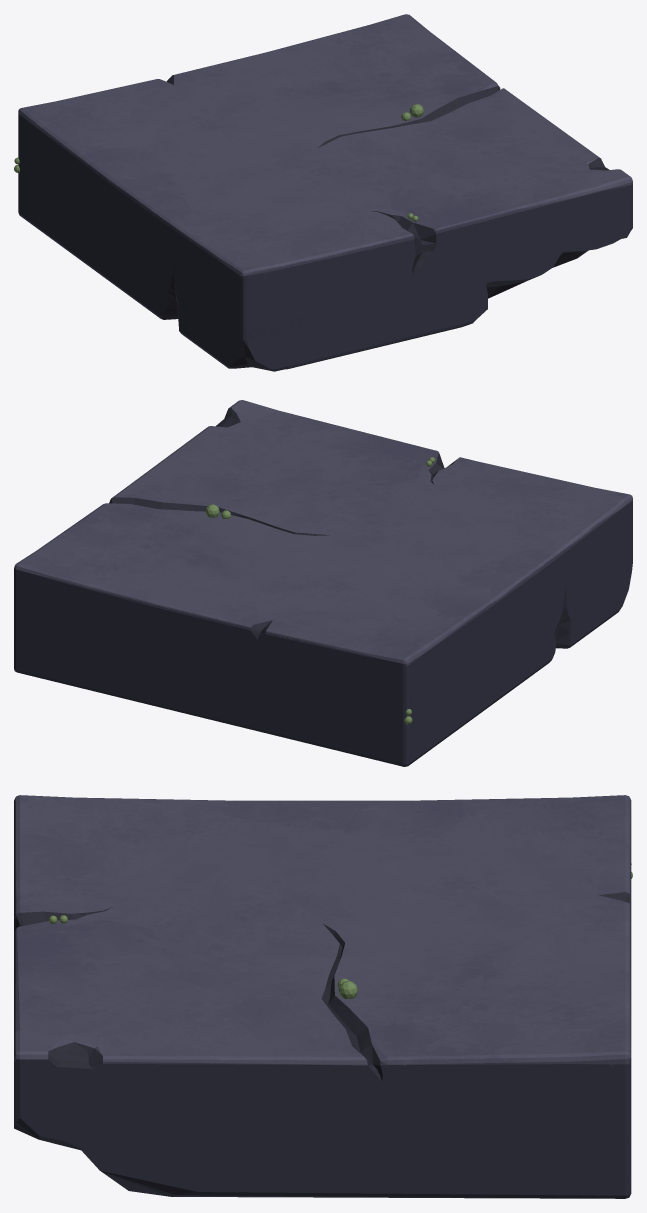
The model's file is 4Platform.fbx.
3 views of the same model, one above another, from view 1: azimuth 30°, elevation 25°; view 2: azimuth 150°, elevation 25°; view 3: azimuth 270°, elevation 25° (orthographic). The views are drawn at different scales.
Visible parts, largest first — view 1: Icosphere.007; view 2: Icosphere.007; view 3: Icosphere.007.
Part boxes in pixels (x1=…): Icosphere.007: x1=14, y1=14, x2=632, y2=371; Icosphere.007: x1=14, y1=400, x2=632, y2=766; Icosphere.007: x1=14, y1=795, x2=632, y2=1198.
Bounding box in the file's own units: 262 × 261 × 72.58.
Materials: 1 (1 with a texture image).
